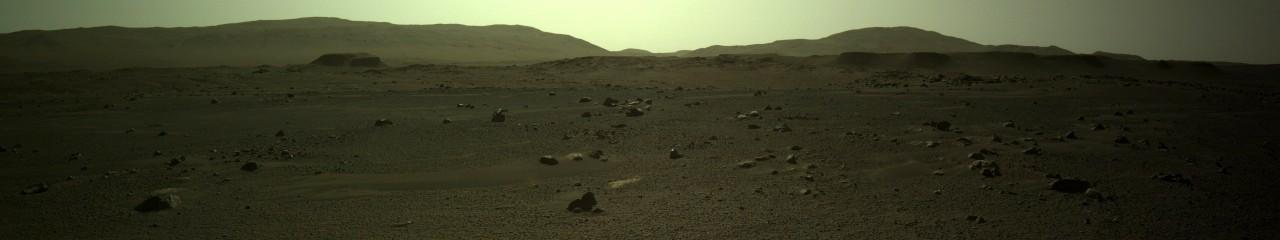bedrock: (871, 69, 985, 73)
big_rock: (306, 48, 389, 68)
soil: (4, 73, 1272, 239)
